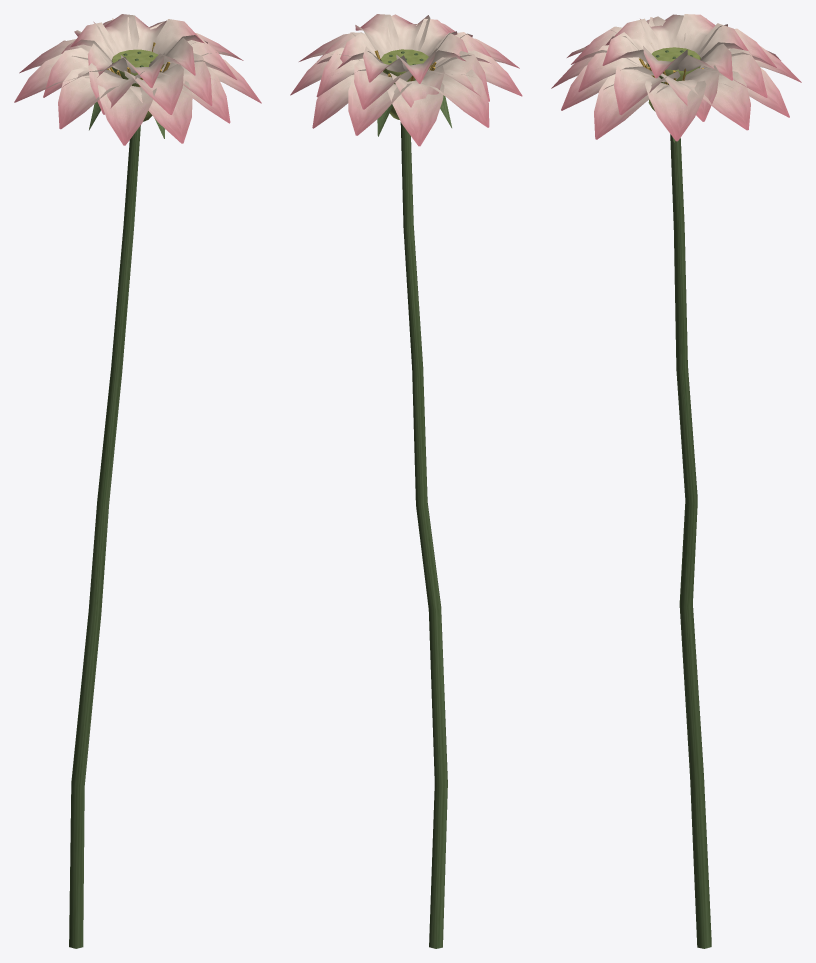
Rendered from lotus_flower_open.glb.
3 renders of one model, left to right at view 1: azimuth 30°, elevation 25°; view 2: azimuth 150°, elevation 25°; view 3: azimuth 270°, elevation 25°, orthographic. The views are drawn at different scales.
Parts seen in each view (by area): view 1: lotus_flower_open; view 2: lotus_flower_open; view 3: lotus_flower_open.
Part boxes in pixels (x1,y1,x2,y2): lotus_flower_open: (14, 14, 261, 948); lotus_flower_open: (290, 14, 522, 948); lotus_flower_open: (551, 14, 801, 948).
Size of the model in its own units: 0.2347 by 0.9641 by 0.2333.
1 material, 1 textured.
